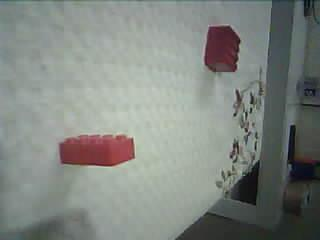lego: (57, 132, 136, 167), (203, 25, 240, 73)
